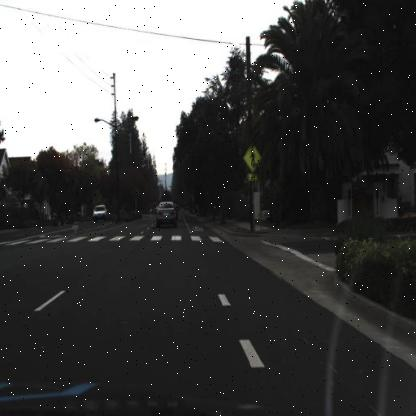car: (148, 190, 178, 238), (93, 201, 108, 221), (172, 196, 178, 222)
